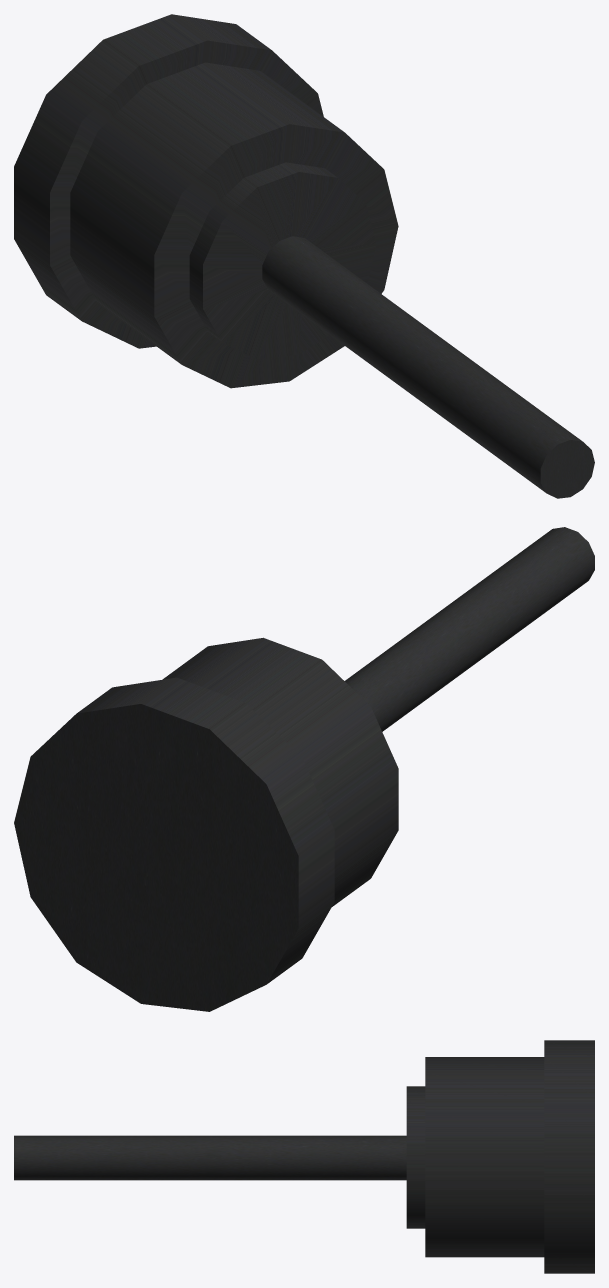
File: Round_Nut.dae
3 views of the same model, one above another, from view 1: azimuth 30°, elevation 25°; view 2: azimuth 150°, elevation 25°; view 3: azimuth 270°, elevation 25° (orthographic). The views are drawn at different scales.
Parts seen in each view (by area): view 1: Round_Nut; view 2: Round_Nut; view 3: Round_Nut.
Boxes of the visible parts, x1,y1,x2,y2 form: Round_Nut: [14, 14, 594, 498]; Round_Nut: [14, 527, 594, 1011]; Round_Nut: [14, 1040, 594, 1273].
Size of the model in its own units: 0.0175 by 0.0439 by 0.0177.
1 material, 1 textured.
